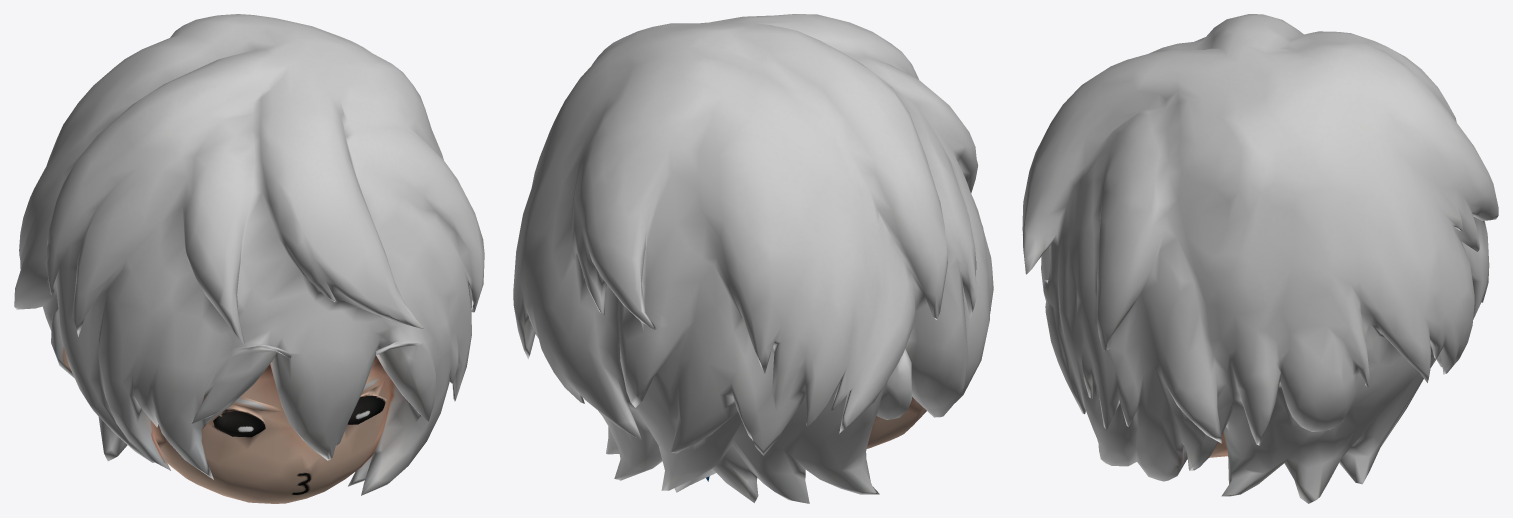
File: head.glb
The picture shows the model from 3 angles, left to right: view 1: azimuth 30°, elevation 25°; view 2: azimuth 150°, elevation 25°; view 3: azimuth 270°, elevation 25°; orthographic projection. The views are drawn at different scales.
Visible parts, largest first — view 1: tripo_node_b7ad23fa.001; view 2: tripo_node_b7ad23fa.001; view 3: tripo_node_b7ad23fa.001.
Part boxes in pixels (<box>): tripo_node_b7ad23fa.001: <box>14,14,484,503</box>; tripo_node_b7ad23fa.001: <box>513,14,993,503</box>; tripo_node_b7ad23fa.001: <box>1022,14,1498,503</box>.
Bounding box in the file's own units: 0.4257 × 0.4302 × 0.4496.
Materials: 1 (1 with a texture image).
